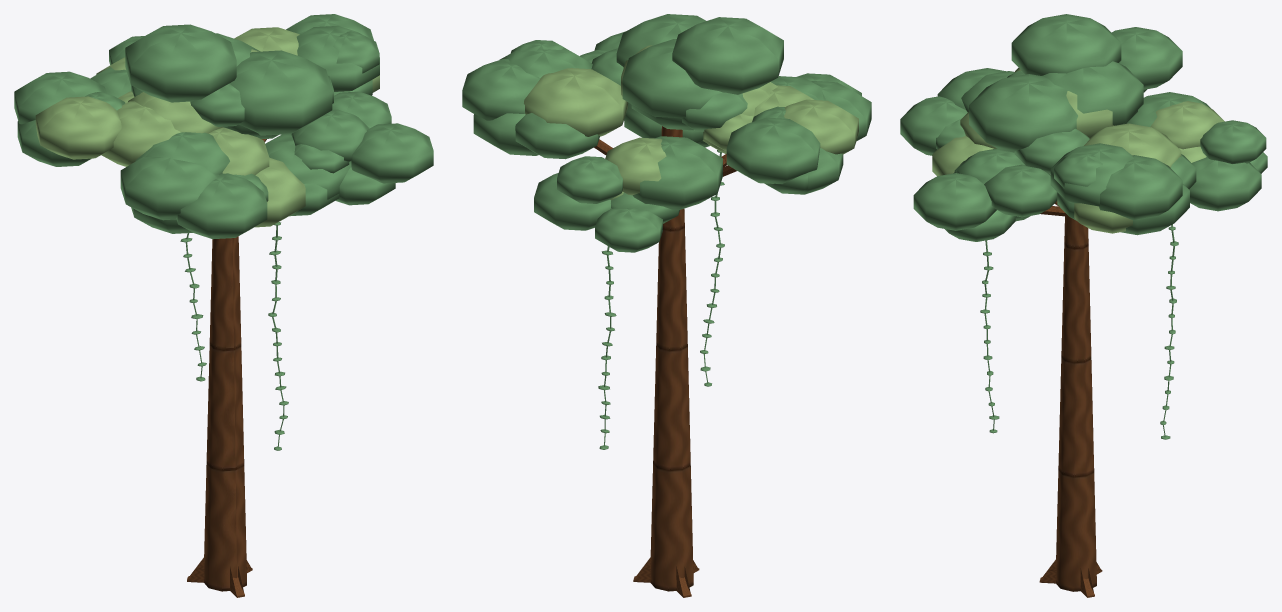
The model's file is canopy_01.glb.
The picture shows the model from 3 angles, left to right: view 1: azimuth 30°, elevation 25°; view 2: azimuth 150°, elevation 25°; view 3: azimuth 270°, elevation 25°; orthographic projection. The views are drawn at different scales.
Parts seen in each view (by area): view 1: jungle-canopy-tree; view 2: jungle-canopy-tree; view 3: jungle-canopy-tree.
Boxes of the visible parts, box(x1,y1,x2,y2) form: jungle-canopy-tree: box(14, 14, 433, 597); jungle-canopy-tree: box(462, 14, 871, 597); jungle-canopy-tree: box(900, 14, 1267, 597).
Size of the model in its own units: 10.7 by 16.06 by 9.96.
Materials: 3 (3 with a texture image).
